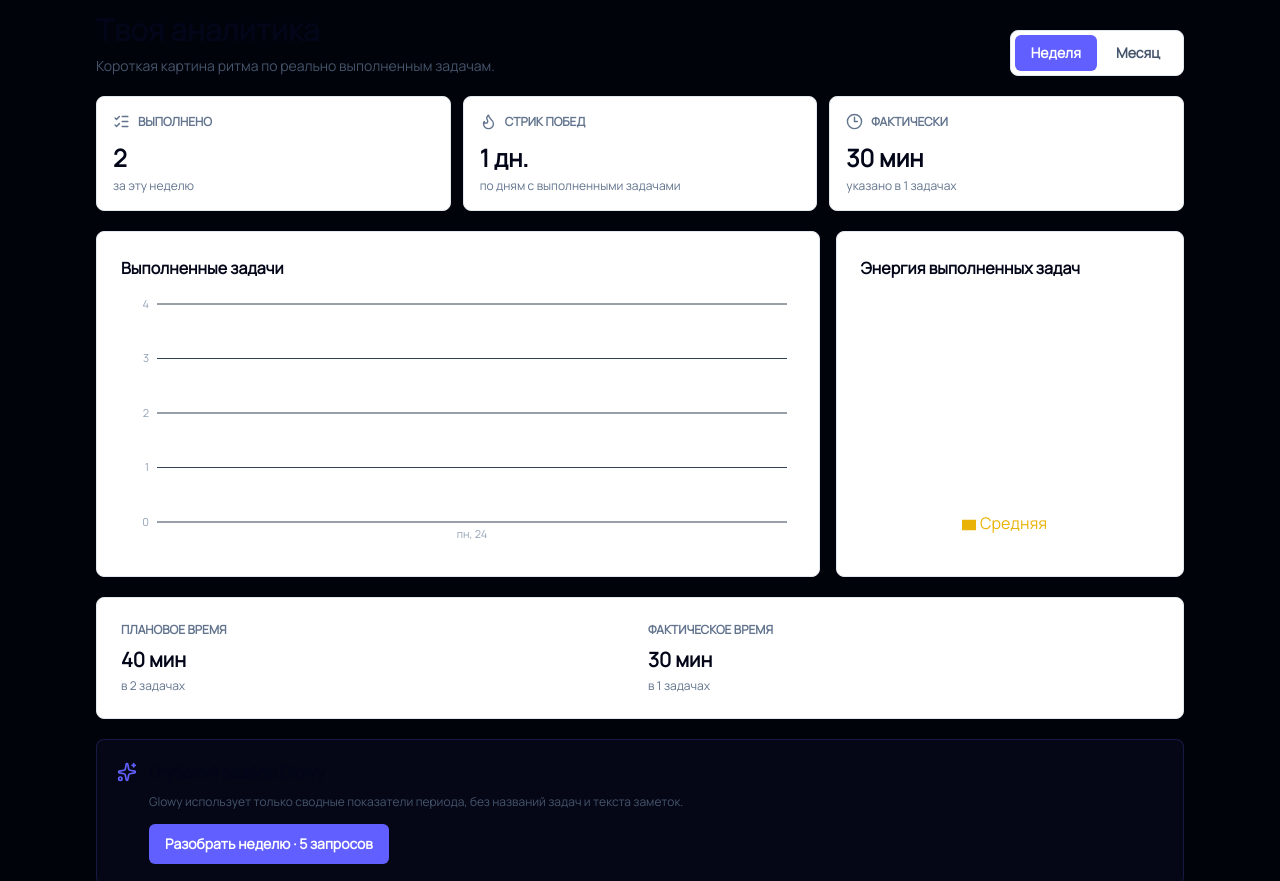
Test: AnalyticsPage report › ignores late AI success after week → month → week
This screenshot has width=1280, height=881.
Click the button "Разобрать неделю · 5 запросов". click: (269, 844)
box: left=149, top=824, right=389, bottom=864
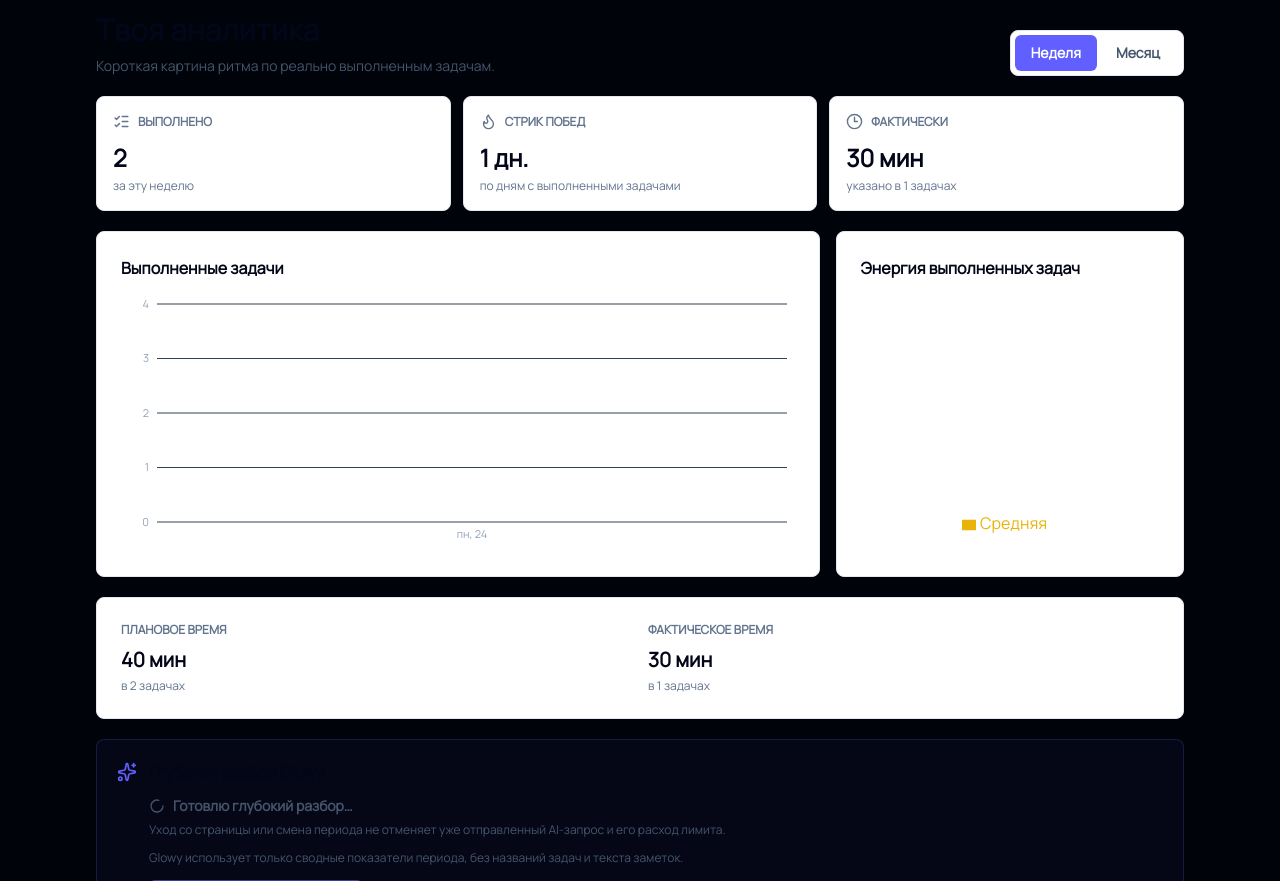
Click the button "Месяц". click: (1138, 53)
box: left=1097, top=35, right=1179, bottom=71
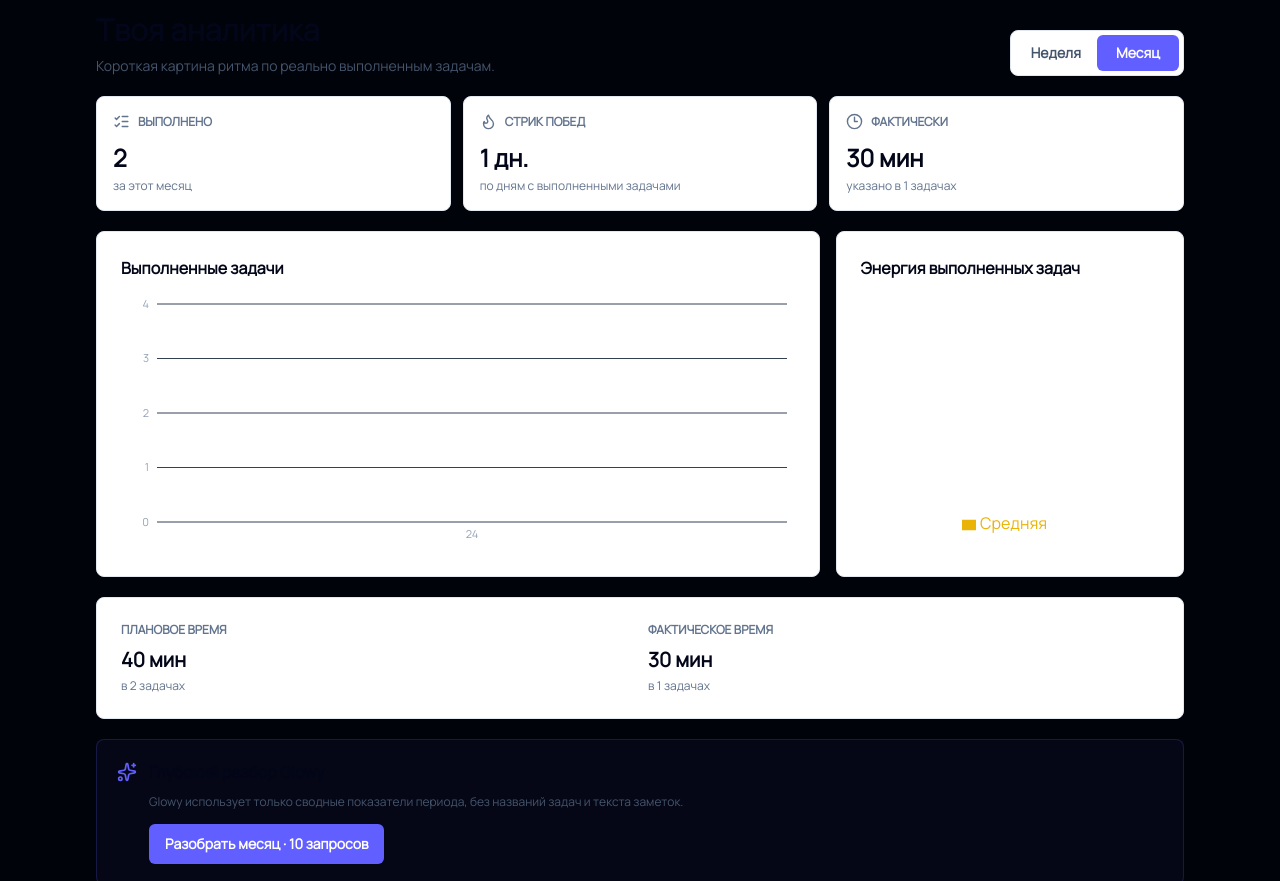
Check: the button "Разобрать месяц · 10 запросов" is shown, box left=149, top=824, right=384, bottom=864
Click the button "Неделя". click: (1056, 53)
box: left=1015, top=35, right=1097, bottom=71
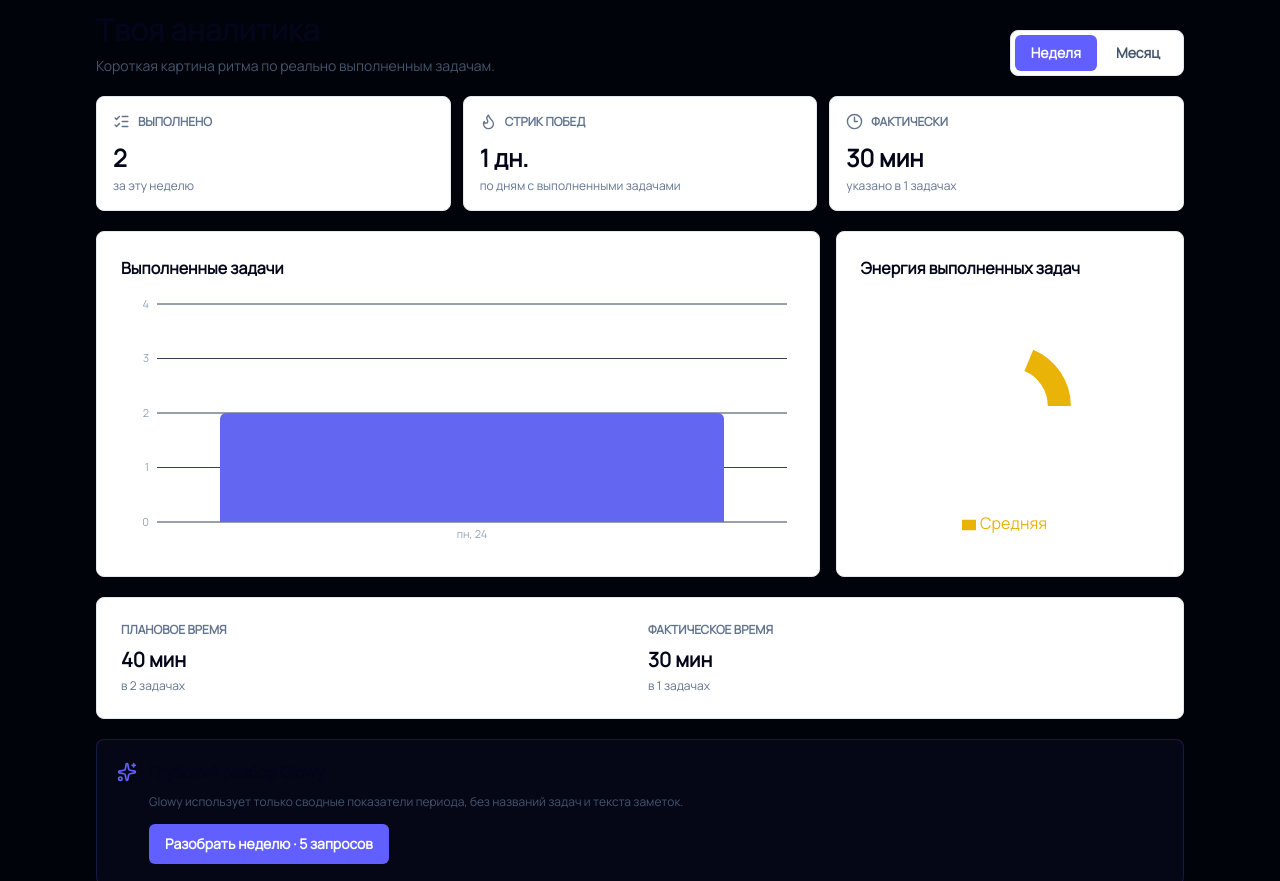
Check: the button "Разобрать неделю · 5 запросов" is shown, box left=149, top=824, right=389, bottom=864
